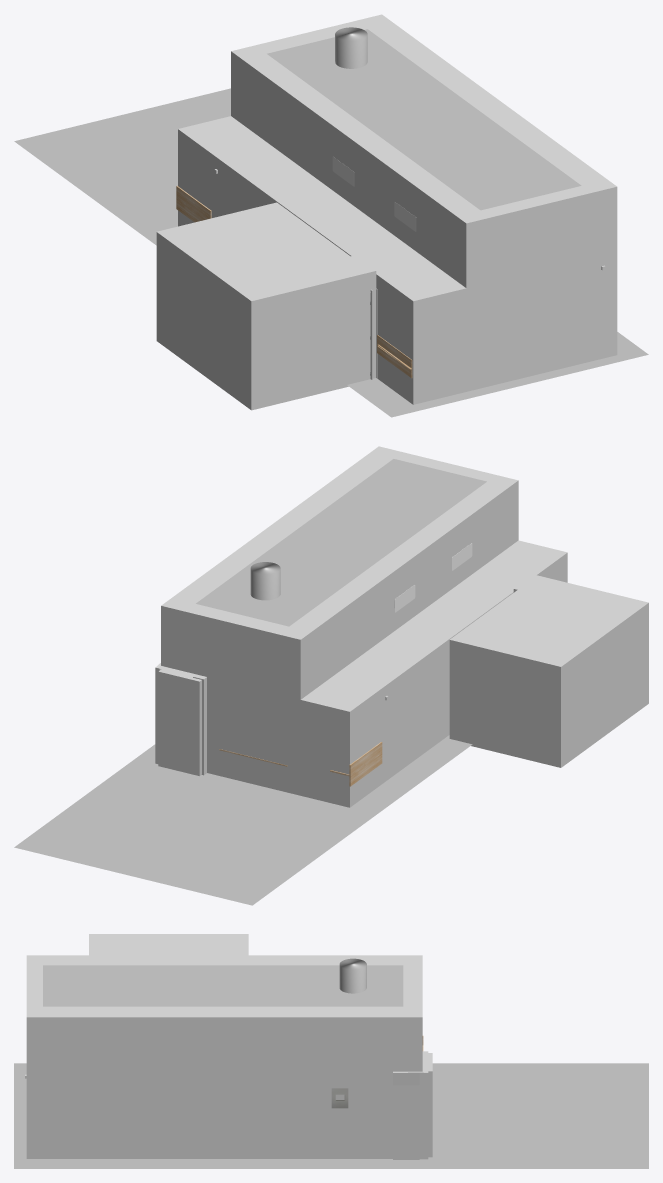
File: arena model 1213.fbx
3 renders of one model, top to bottom at view 1: azimuth 30°, elevation 25°; view 2: azimuth 150°, elevation 25°; view 3: azimuth 270°, elevation 25°, orthographic. The views are drawn at different scales.
Parts seen in each view (by area): view 1: walls, floor, Cylinder.001, Cube.016, Cube.019; view 2: walls, floor, Cube.017, Cylinder.001, Cube.016; view 3: walls, floor, Cylinder.001, Cube.017.
Part boxes in pixels (left/top/right/bottom): walls: left=156, top=14, right=617, bottom=410; floor: left=14, top=88, right=648, bottom=417; Cylinder.001: left=335, top=27, right=367, bottom=68; Cube.016: left=176, top=185, right=211, bottom=222; Cube.019: left=377, top=335, right=412, bottom=378; walls: left=155, top=446, right=648, bottom=807; floor: left=14, top=735, right=472, bottom=905; Cube.017: left=158, top=669, right=201, bottom=776; Cylinder.001: left=250, top=562, right=280, bottom=600; Cube.016: left=349, top=742, right=382, bottom=786; walls: left=26, top=934, right=428, bottom=1159; floor: left=14, top=1063, right=648, bottom=1168; Cylinder.001: left=339, top=958, right=366, bottom=993; Cube.017: left=428, top=1053, right=432, bottom=1157.
Bounding box in the file's own units: 873 × 500 × 1616.
